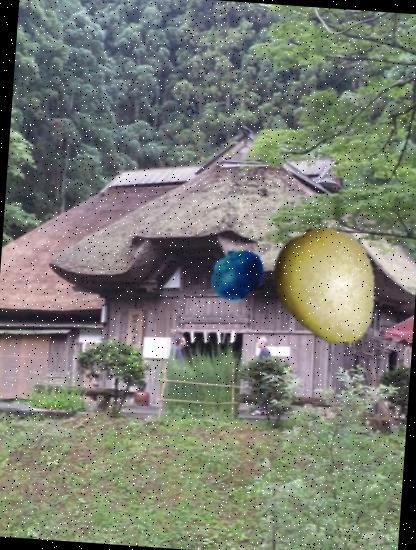Huckleberry: (205, 243, 266, 304)
Pear: (262, 222, 396, 356)
